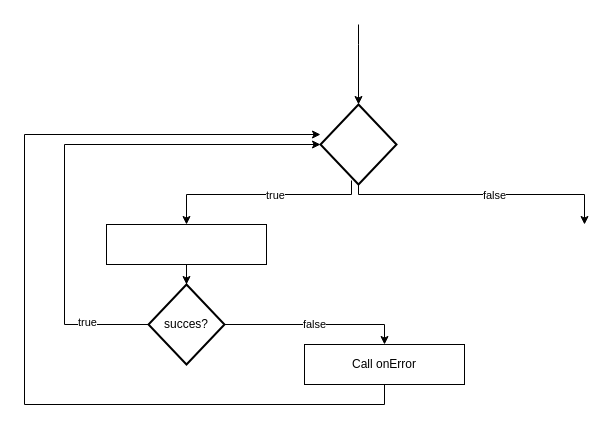
The diagram is 610 pixels wide and 430 high, and some of its shapes have lost their labels. The shapes that lost their labels are listed below. From the top down, each one's box as (x1, y1, x2, y2) in pixels, then its label:
(319, 103, 397, 185): isRunning?
(106, 224, 266, 264): 1. get flight data
